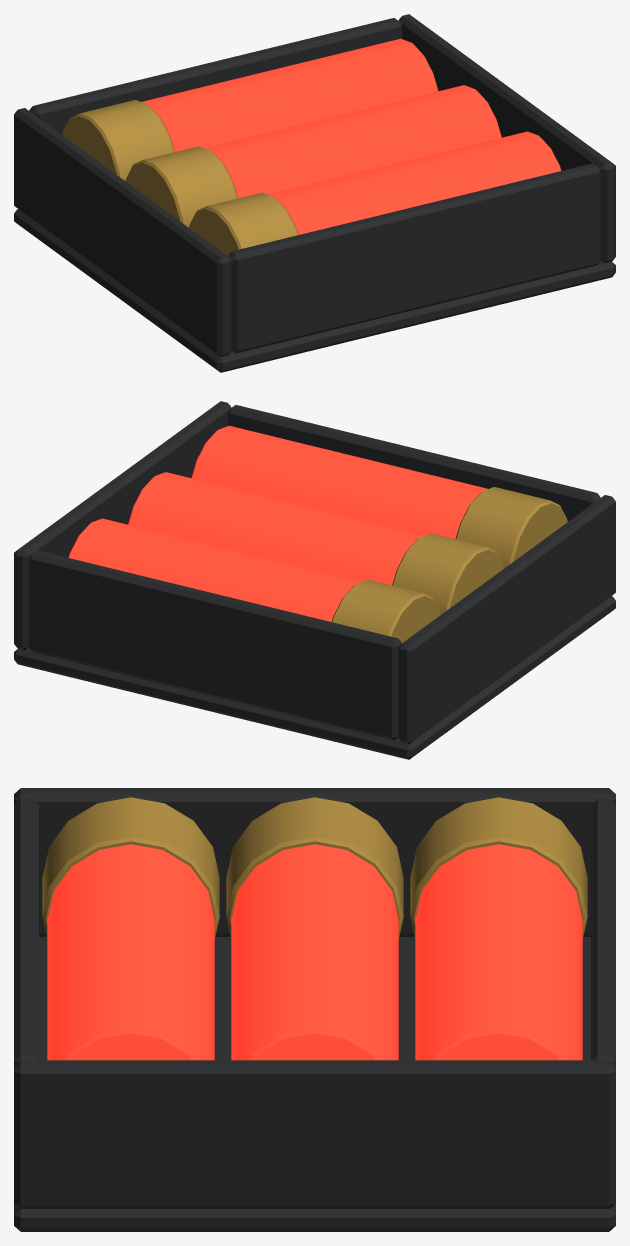
The model's file is mod_shotgun_dragons_breath.glb.
3 renders of one model, top to bottom at view 1: azimuth 30°, elevation 25°; view 2: azimuth 150°, elevation 25°; view 3: azimuth 270°, elevation 25°, orthographic. The views are drawn at different scales.
Parts seen in each view (by area): view 1: AmmoCaddy, AmmoShell2, AmmoShell1, AmmoShell0; view 2: AmmoCaddy, AmmoShell0, AmmoShell1, AmmoShell2; view 3: AmmoCaddy, AmmoShell0, AmmoShell2, AmmoShell1.
Boxes of the visible parts, box(x1,y1,x2,y2) form: AmmoCaddy: box(14, 14, 615, 372); AmmoShell2: box(62, 38, 438, 181); AmmoShell1: box(125, 85, 501, 227); AmmoShell0: box(189, 131, 561, 255); AmmoCaddy: box(14, 401, 615, 759); AmmoShell0: box(191, 425, 567, 568); AmmoShell1: box(128, 472, 504, 614); AmmoShell2: box(68, 518, 440, 642); AmmoCaddy: box(14, 788, 615, 1231); AmmoShell0: box(42, 797, 219, 1060); AmmoShell2: box(410, 797, 587, 1060); AmmoShell1: box(226, 797, 403, 1060).
Bounding box in the file's own units: 0.08 × 0.0241 × 0.072.
